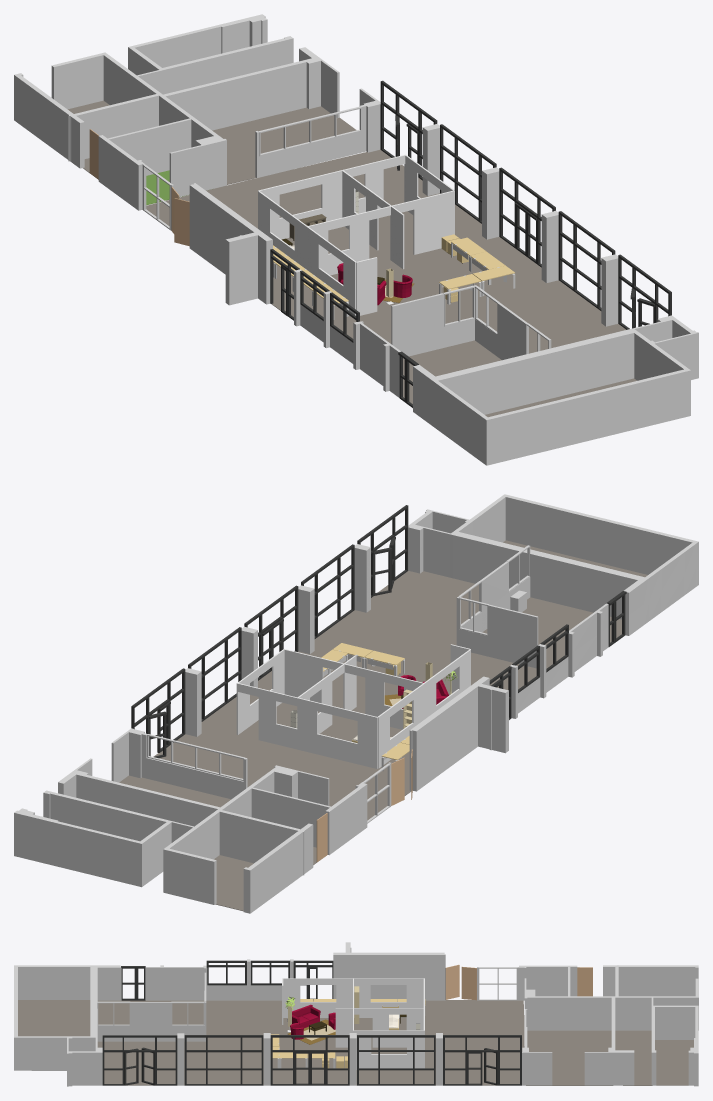
The model's file is laas_adream_ori.dae.
3 views of the same model, one above another, from view 1: azimuth 30°, elevation 25°; view 2: azimuth 150°, elevation 25°; view 3: azimuth 270°, elevation 25° (orthographic). The views are drawn at different scales.
Visible parts, largest first — view 1: walls.002, walls.010, Floor_h020, glass_wall_h20_1, walls.004, Floor_h022, walls.011, walls.001, walls.000, Floor_h021, walls.005, walls.007 (+12 smaller); view 2: walls.002, walls.010, Floor_h020, walls.004, glass_wall_h20_1, walls.001, walls.011, walls.000, Floor_h021, walls.005, Floor_h002, Floor_h022 (+13 smaller); view 3: Floor_h020, walls.002, walls.010, glass_wall_h20_1, walls.004, walls.011, Floor_h022, Floor_h006, walls.005, Floor_h021, Floor_h003, Floor_h004 (+34 smaller).
Boxes of the visible parts, <box> form: walls.002: <box>14,14,339,210</box>; walls.010: <box>413,315,698,465</box>; Floor_h020: <box>146,149,626,353</box>; glass_wall_h20_1: <box>380,80,671,329</box>; walls.004: <box>189,183,272,305</box>; Floor_h022: <box>212,106,356,184</box>; walls.011: <box>294,269,400,397</box>; walls.001: <box>255,88,380,177</box>; walls.000: <box>391,285,476,356</box>; Floor_h021: <box>403,340,501,403</box>; walls.005: <box>475,303,527,360</box>; walls.007: <box>482,167,499,239</box>; walls.002: <box>14,758,367,913</box>; walls.010: <box>408,494,698,635</box>; Floor_h020: <box>153,571,536,820</box>; walls.004: <box>409,676,508,791</box>; glass_wall_h20_1: <box>131,505,408,745</box>; walls.001: <box>111,728,247,799</box>; walls.011: <box>510,603,608,718</box>; walls.000: <box>456,597,538,668</box>; Floor_h021: <box>482,597,621,668</box>; walls.005: <box>461,561,530,632</box>; Floor_h002: <box>214,855,253,911</box>; Floor_h022: <box>119,775,230,807</box>; Floor_h020: <box>97,1000,524,1085</box>; walls.002: <box>517,965,698,1086</box>; walls.010: <box>14,965,121,1086</box>; glass_wall_h20_1: <box>102,1035,521,1085</box>; walls.004: <box>333,942,445,1000</box>; walls.011: <box>146,959,293,1000</box>; Floor_h022: <box>526,1030,612,1085</box>; Floor_h006: <box>18,1000,90,1036</box>; walls.005: <box>97,1002,204,1041</box>; Floor_h021: <box>97,1000,204,1024</box>; Floor_h003: <box>655,1040,693,1085</box>; Floor_h004: <box>615,1030,652,1085</box>.
Bounding box in the file's own units: 13.45 × 39.63 × 3.2.
